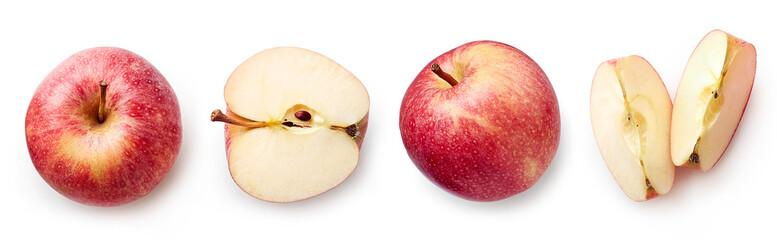apple: (395, 34, 568, 212), (208, 41, 378, 210), (20, 41, 192, 208), (587, 46, 689, 218), (664, 9, 759, 182)
